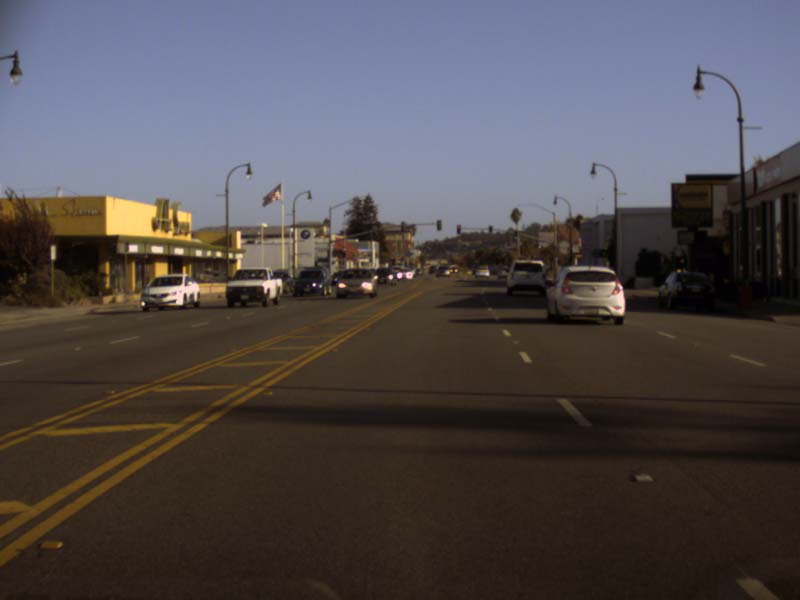Green: (488, 226, 492, 234), (513, 231, 516, 238), (479, 245, 482, 248), (495, 249, 496, 251)
Red: (456, 224, 459, 233)
